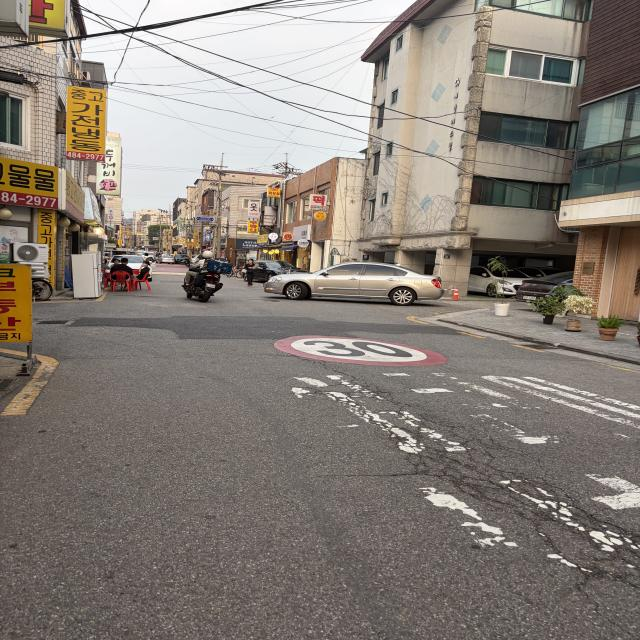car: (261, 246, 456, 318), (240, 255, 310, 288), (104, 250, 160, 284)
motorcycle: (183, 243, 233, 312)
